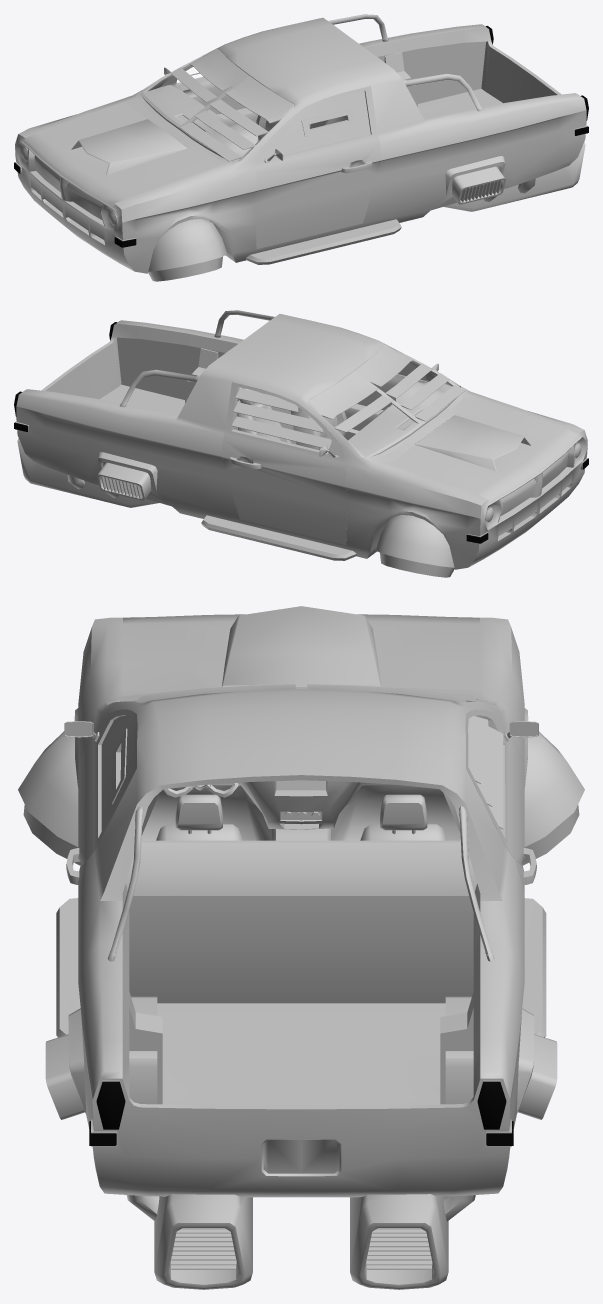
The model's file is foton.fbx.
3 renders of one model, top to bottom at view 1: azimuth 30°, elevation 25°; view 2: azimuth 150°, elevation 25°; view 3: azimuth 270°, elevation 25°, orthographic. The views are drawn at different scales.
Parts seen in each view (by area): view 1: Hover_Plane.003; view 2: Hover_Plane.003; view 3: Hover_Plane.003.
Part boxes in pixels (x1,y1,x2,y2): Hover_Plane.003: [14, 14, 588, 281]; Hover_Plane.003: [14, 310, 588, 577]; Hover_Plane.003: [18, 606, 584, 1289].
Bounding box in the file's own units: 607 × 397 × 1219.
